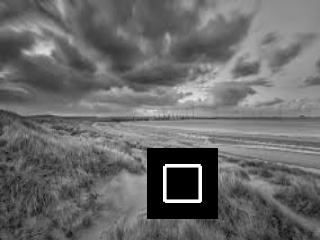square: (147, 148, 218, 219)
